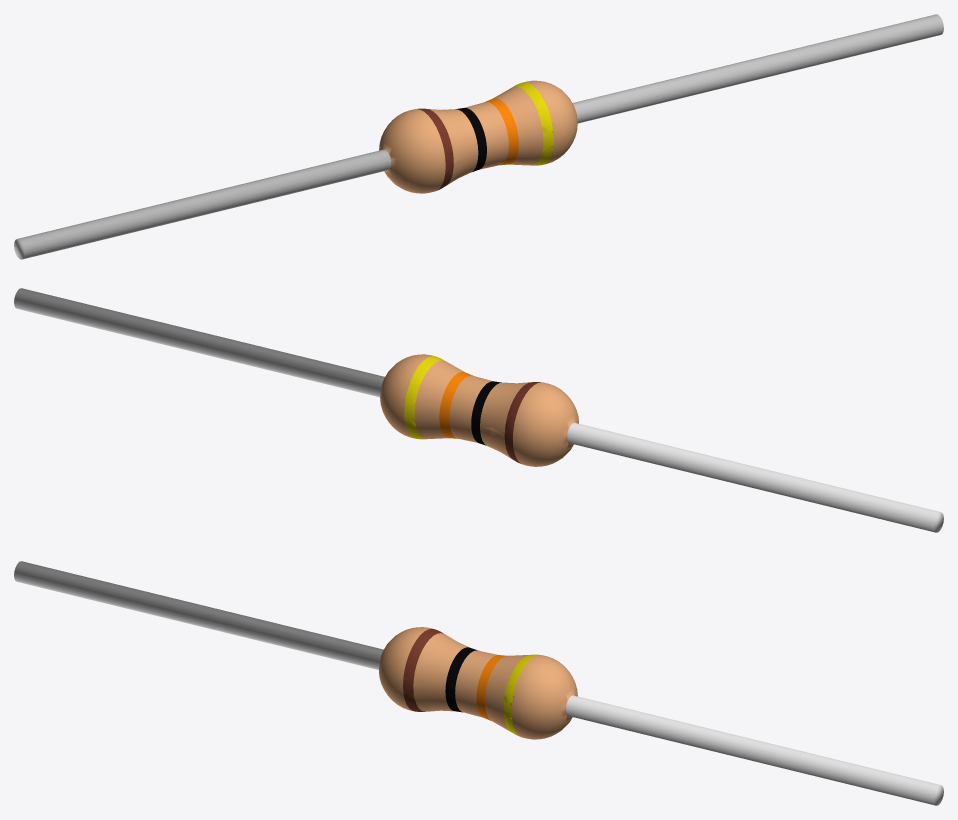
The picture shows the model from 3 angles, top to bottom: view 1: azimuth 30°, elevation 25°; view 2: azimuth 150°, elevation 25°; view 3: azimuth 330°, elevation 25°; orthographic projection.
Visible parts, largest first — view 1: METAL-material, CERAMICA-material, OURO-material, LARANJA-material, MARRON-material, PRETO-material; view 2: METAL-material, CERAMICA-material, OURO-material, LARANJA-material, MARRON-material, PRETO-material; view 3: METAL-material, CERAMICA-material, MARRON-material, OURO-material, PRETO-material, LARANJA-material.
Part boxes in pixels (bbox=[...]): METAL-material: bbox=[14, 14, 943, 259]; CERAMICA-material: bbox=[379, 80, 577, 193]; OURO-material: bbox=[513, 82, 553, 165]; LARANJA-material: bbox=[484, 98, 518, 165]; MARRON-material: bbox=[417, 108, 453, 190]; PRETO-material: bbox=[455, 108, 486, 172]; METAL-material: bbox=[14, 288, 943, 532]; CERAMICA-material: bbox=[380, 354, 578, 466]; OURO-material: bbox=[404, 356, 444, 439]; LARANJA-material: bbox=[439, 372, 472, 438]; MARRON-material: bbox=[504, 382, 540, 463]; PRETO-material: bbox=[471, 381, 501, 445]; METAL-material: bbox=[14, 561, 943, 805]; CERAMICA-material: bbox=[379, 627, 577, 739]; MARRON-material: bbox=[403, 628, 443, 711]; OURO-material: bbox=[503, 654, 538, 736]; PRETO-material: bbox=[445, 647, 477, 712]; LARANJA-material: bbox=[476, 655, 507, 720].
Bounding box in the file's own units: 0.0299 × 0.0024 × 0.00241.
